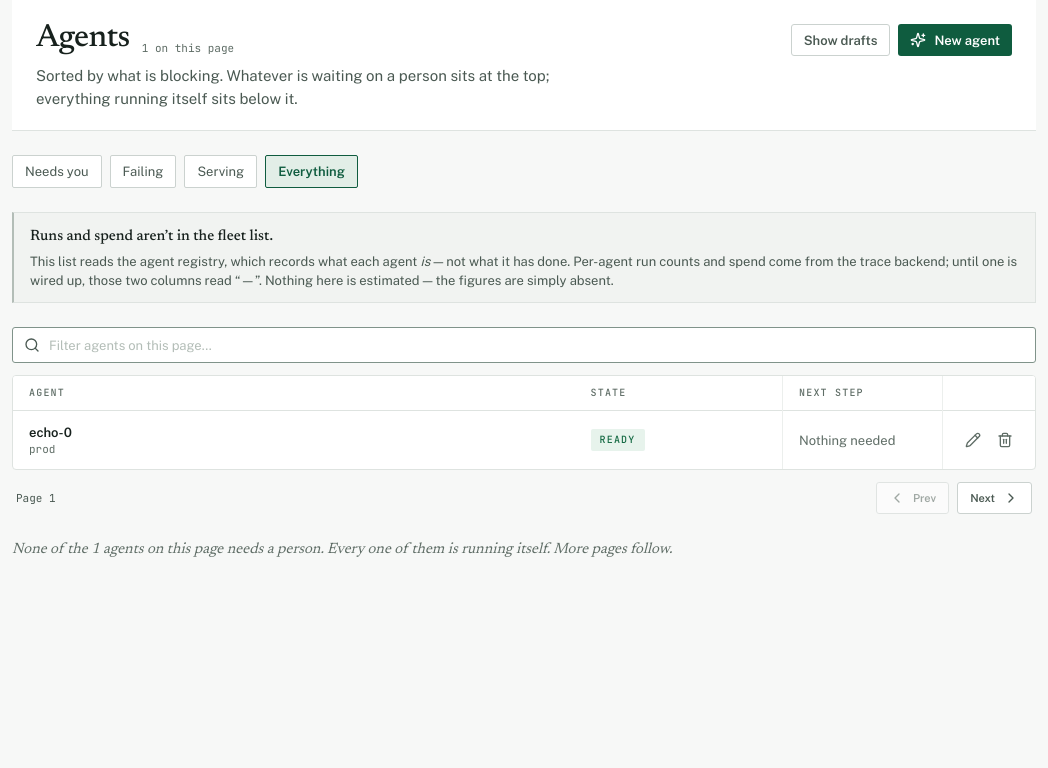
AgentsPage (DataTable + list contract) › paginates by the opaque cursor (Next/Prev walk the page stack)
The image size is (1048, 768).
Expected: the text "echo-0" is shown, [29, 423, 72, 442]
Expected: the button with aria-label "Previous page" is disabled, [876, 482, 949, 514]
Click the button with aria-label "Next page". click: click(995, 498)
box: [957, 482, 1032, 514]
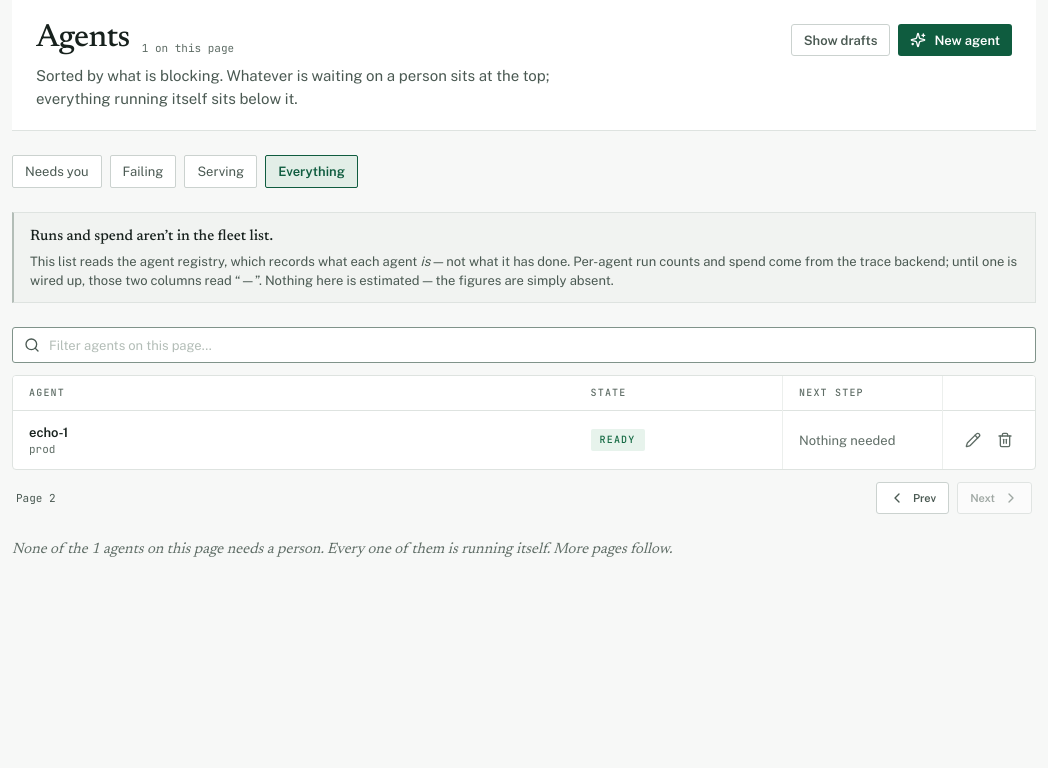
Result: the text "echo-1" is shown at [29, 423, 68, 442]
Result: the button with aria-label "Next page" is disabled at [957, 482, 1032, 514]
Result: the button with aria-label "Previous page" is enabled
Note: Prev walks back to page 0 (echo-0).
Click the button with aria-label "Previous page". click: click(913, 498)
box: [876, 482, 949, 514]
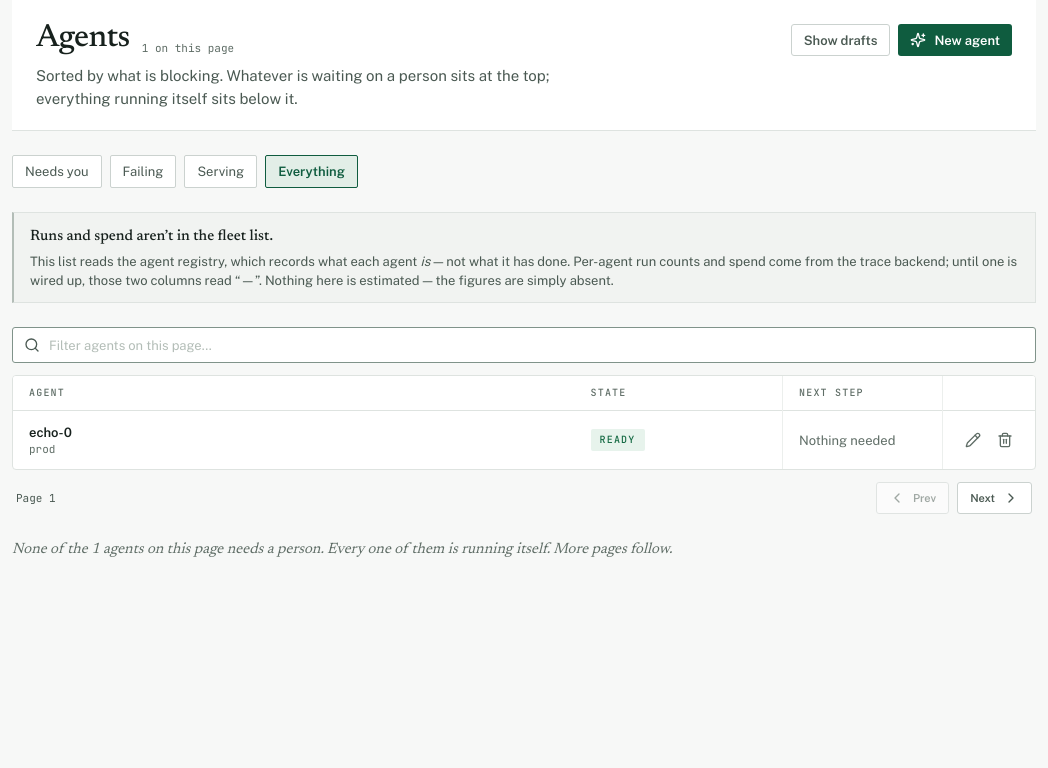
Result: the text "echo-0" is shown at [29, 423, 72, 442]
